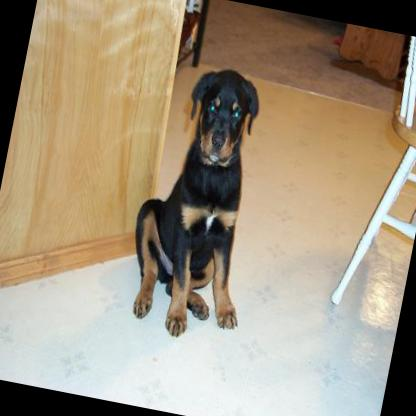Rottweiler: (115, 54, 284, 346)
